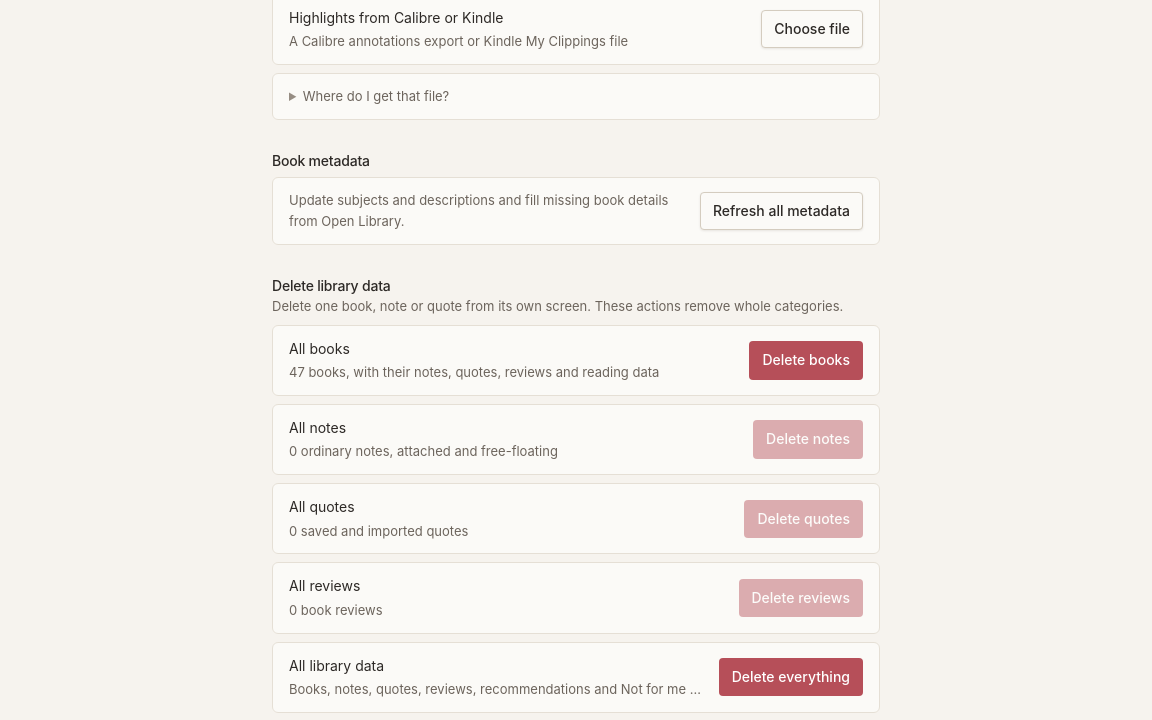
Test case: the Data screen › names the number in the confirmation
(page scrolled)
Click the button "Delete books". click: (806, 360)
box: [749,341,863,380]
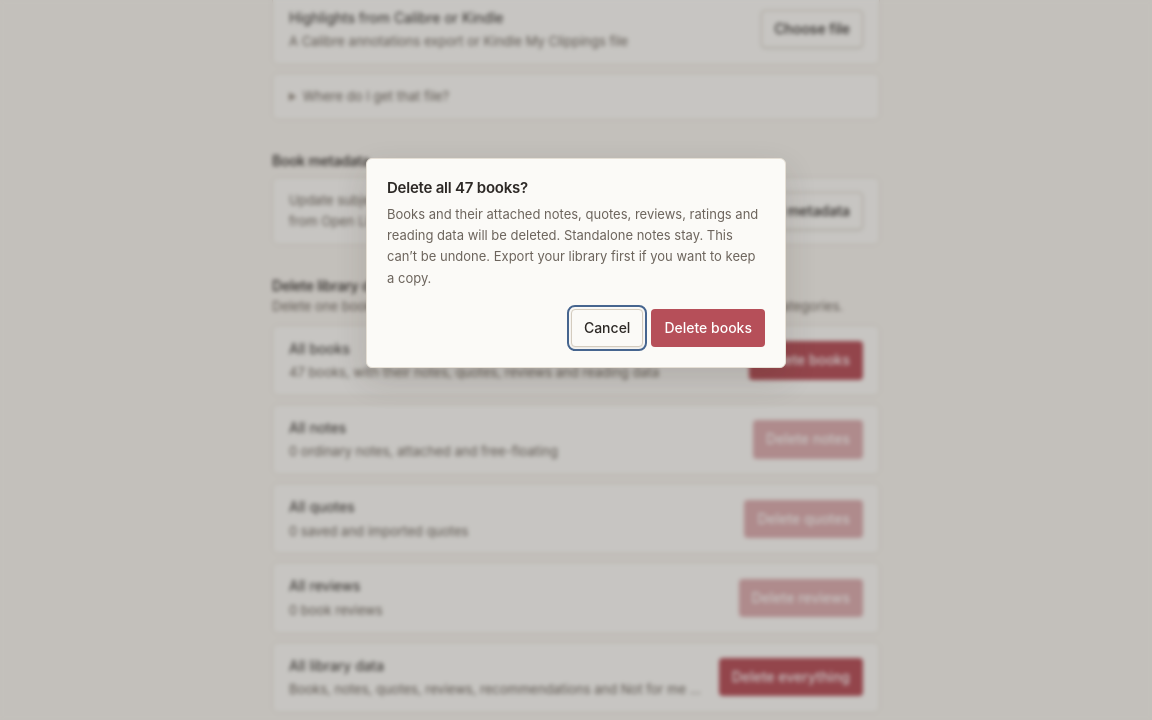
Now the heading "Delete all 47 books?" is shown, box [387,178,528,197]
